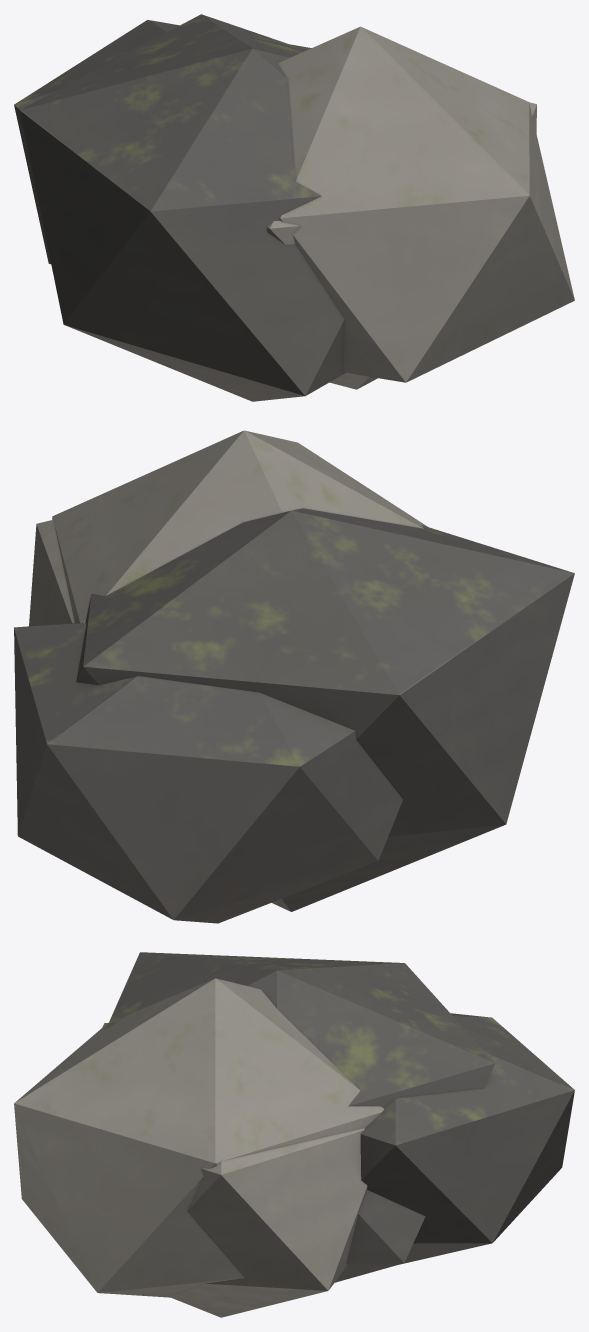
File: rocha_grande.glb
3 views of the same model, one above another, from view 1: azimuth 30°, elevation 25°; view 2: azimuth 150°, elevation 25°; view 3: azimuth 270°, elevation 25° (orthographic). The views are drawn at different scales.
Visible parts, largest first — view 1: rocha_grande; view 2: rocha_grande; view 3: rocha_grande.
Part boxes in pixels (left/top/right/bottom): rocha_grande: left=14, top=14, right=574, bottom=401; rocha_grande: left=14, top=430, right=574, bottom=923; rocha_grande: left=14, top=952, right=574, bottom=1317.
Bounding box in the file's own units: 1.43 × 1.17 × 1.68.
1 material, 1 textured.
